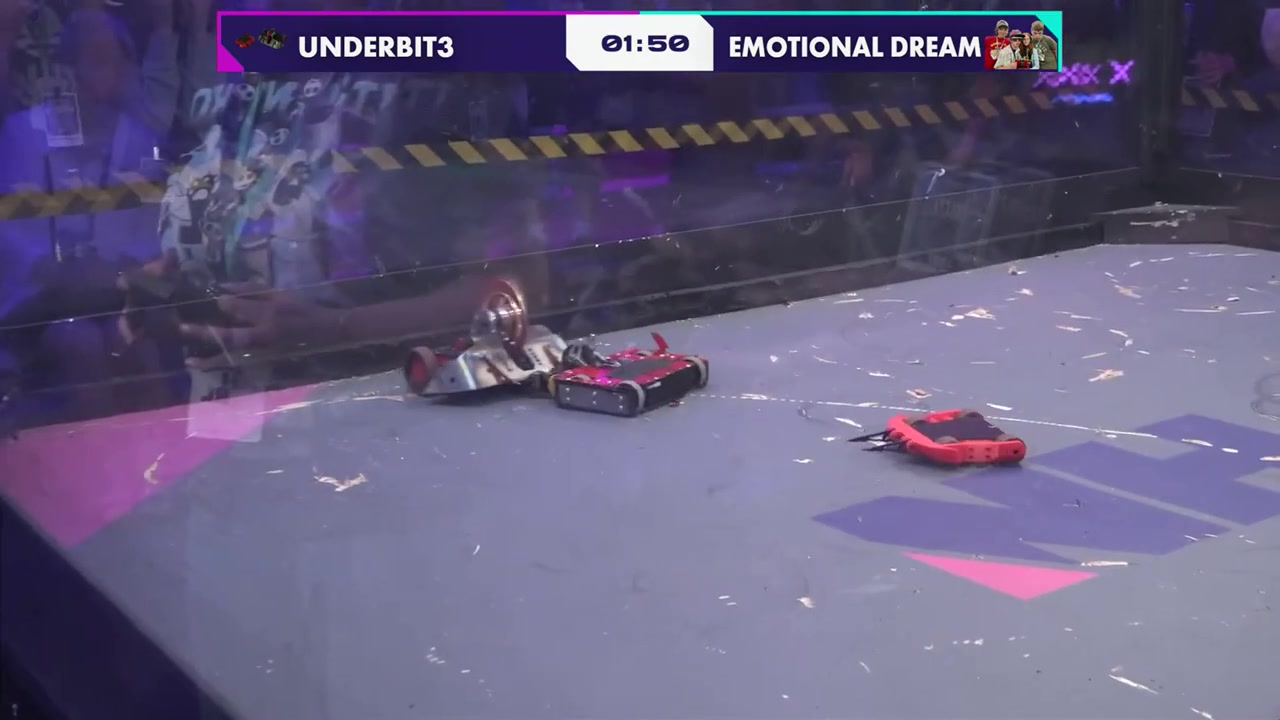combatbot: (402, 284, 550, 400), (553, 334, 712, 417)
minibot: (847, 407, 1026, 472)
